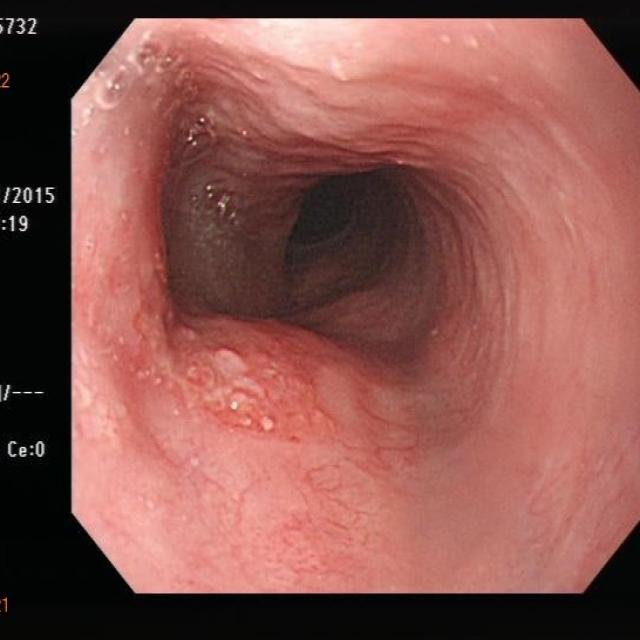A: (172, 317, 329, 445)
E: (281, 172, 423, 320)
S: (2, 184, 59, 207), (2, 15, 41, 41), (2, 382, 47, 404), (3, 440, 48, 461), (2, 214, 32, 235), (2, 73, 14, 93), (2, 595, 12, 616)
T: (93, 41, 217, 151), (196, 183, 241, 225)
